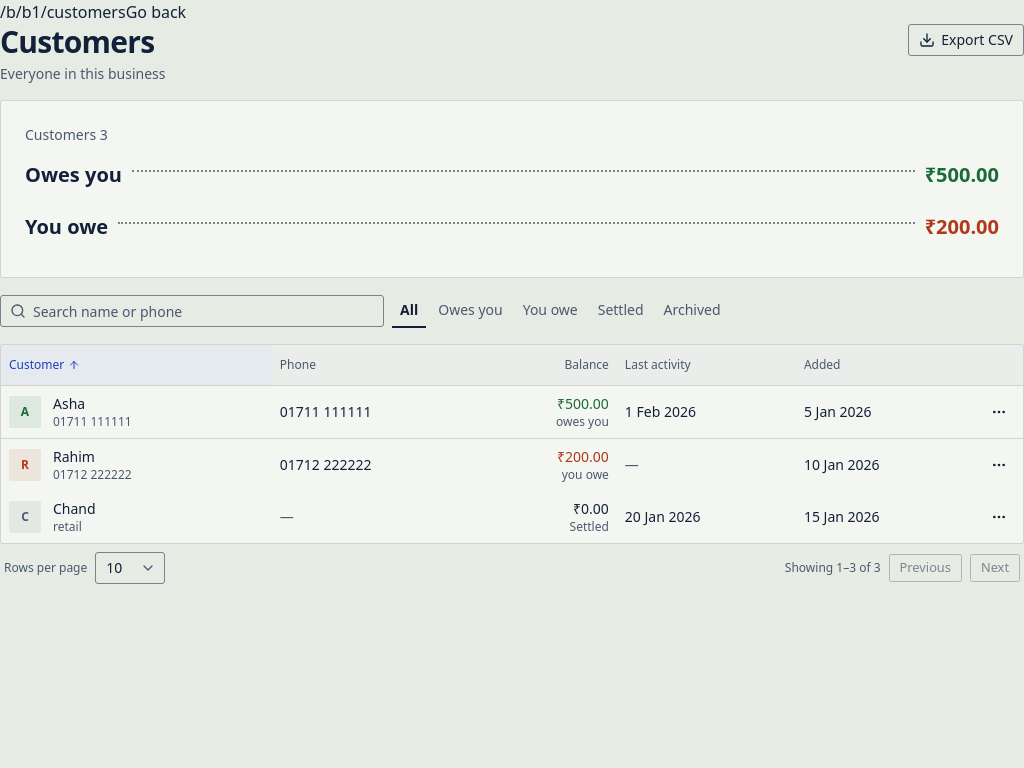
Test: S-28 customers list › gives a Viewer only View and hides the create actions
The width and height of the screenshot is (1024, 768).
Click the button named "Actions for Asha". click: (999,412)
box: left=983, top=396, right=1015, bottom=428
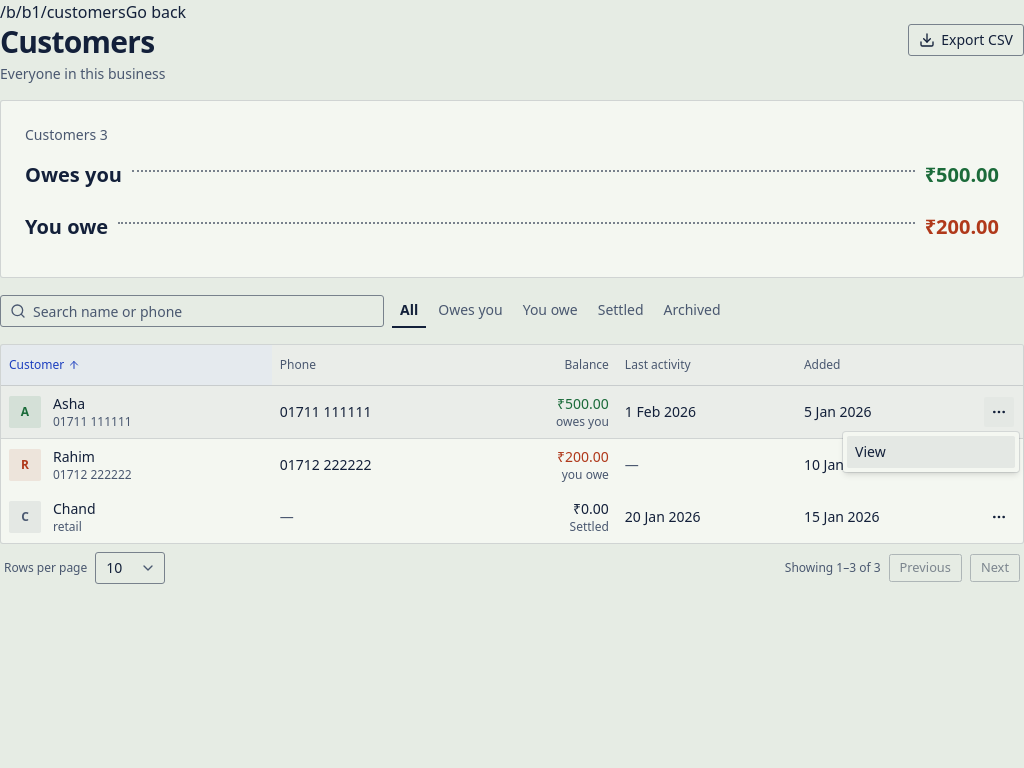
Expected: the menu items read "View", in this order, left=847, top=436, right=1015, bottom=468
